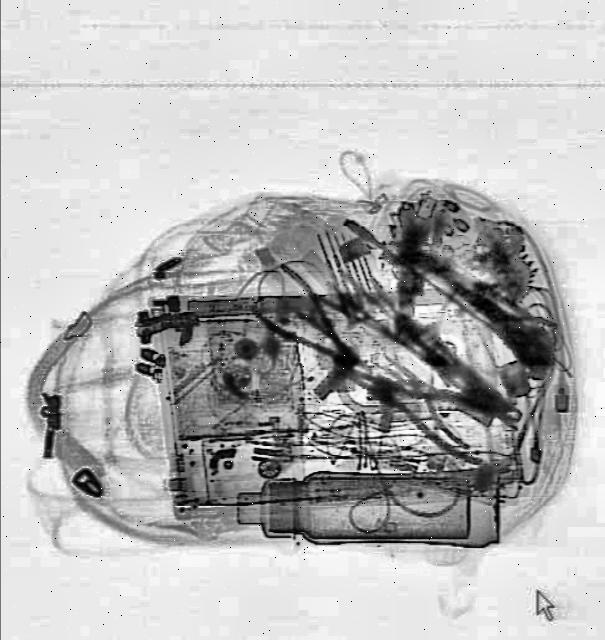Pliers: (330, 343, 520, 473), (241, 260, 375, 382)
